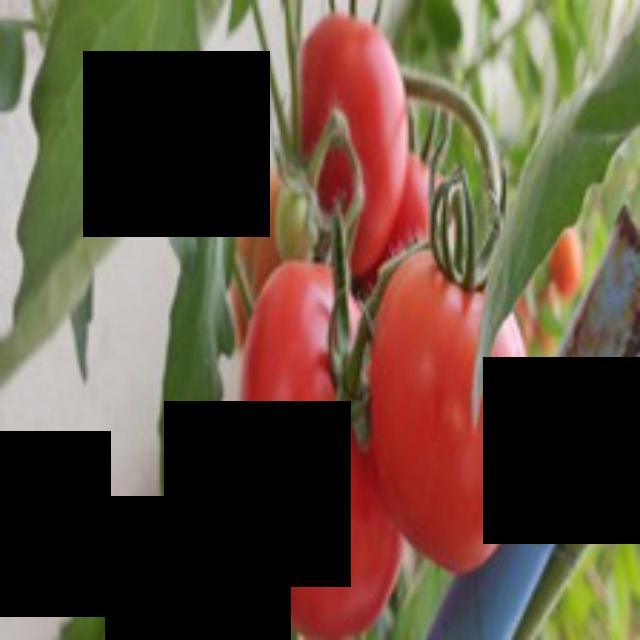tomato: (228, 251, 408, 637), (362, 199, 540, 569), (297, 7, 412, 282)
